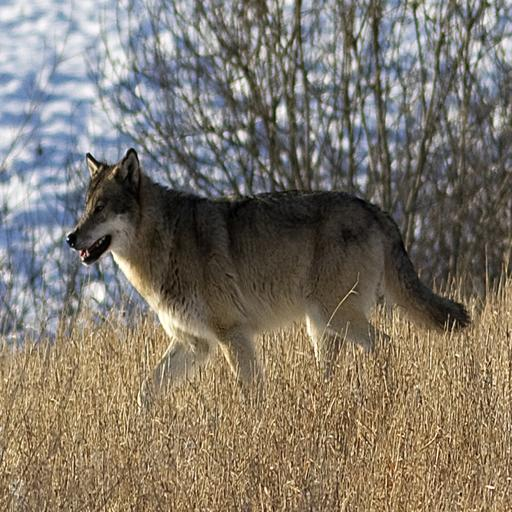Wolf: (69, 143, 471, 430)
